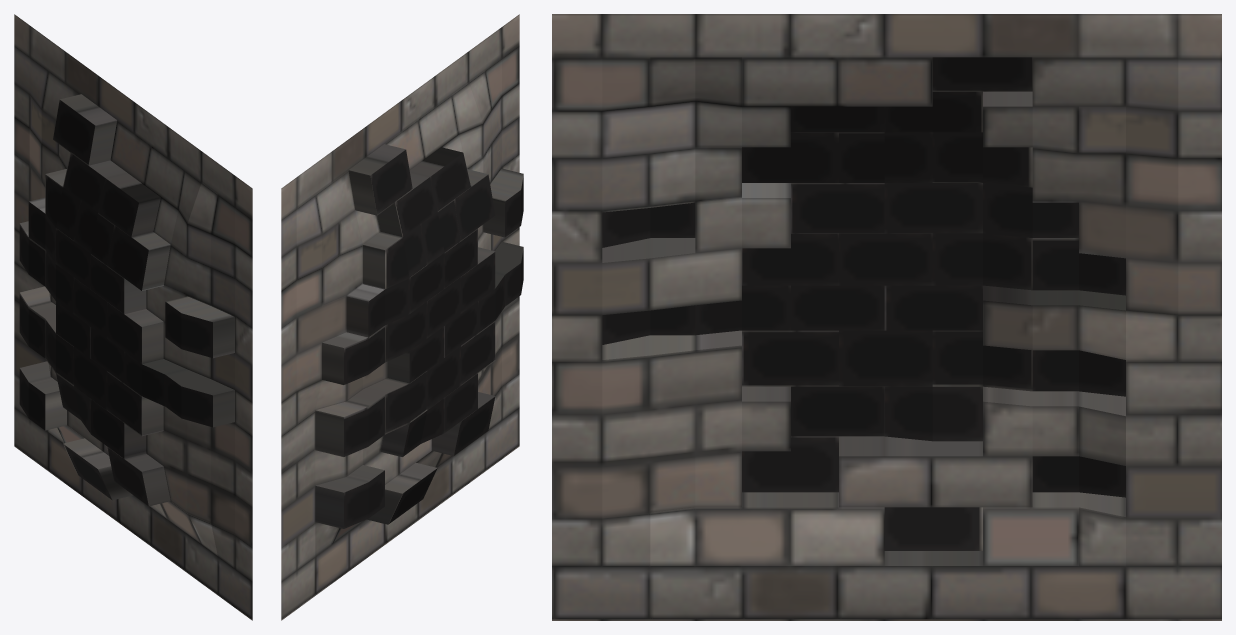
Rendered from Wall_1_0.fbx.
3 views of the same model, side by side, from view 1: azimuth 30°, elevation 25°; view 2: azimuth 150°, elevation 25°; view 3: azimuth 270°, elevation 25° (orthographic). The views are drawn at different scales.
Parts seen in each view (by area): view 1: 0; view 2: 0; view 3: 0.
Part boxes in pixels (box(x1,y1,x2,y2)): 0: box(14, 14, 252, 620); 0: box(281, 14, 523, 620); 0: box(552, 14, 1221, 620).
Bounding box in the file's own units: 20.95 × 200 × 200.
1 material, 1 textured.
